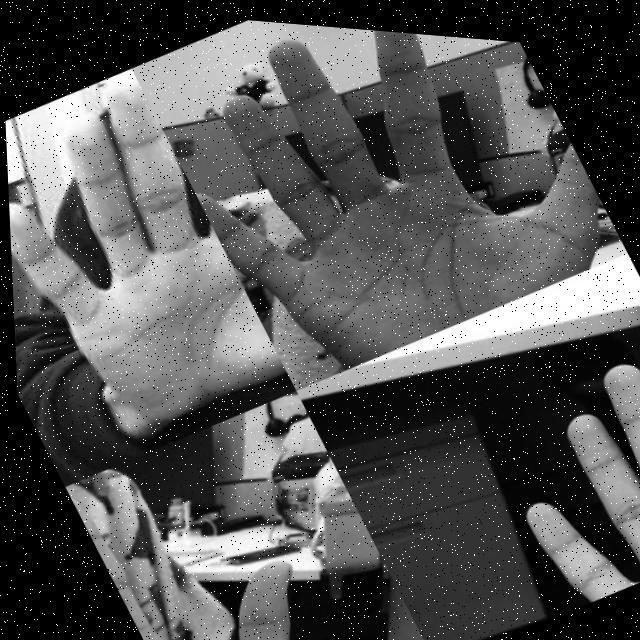no-gloves: (140, 9, 631, 407), (2, 58, 291, 467), (58, 409, 352, 640), (468, 314, 640, 606)
